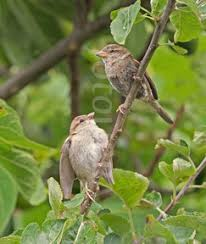hsparrow: (92, 41, 180, 125), (55, 110, 116, 210)
